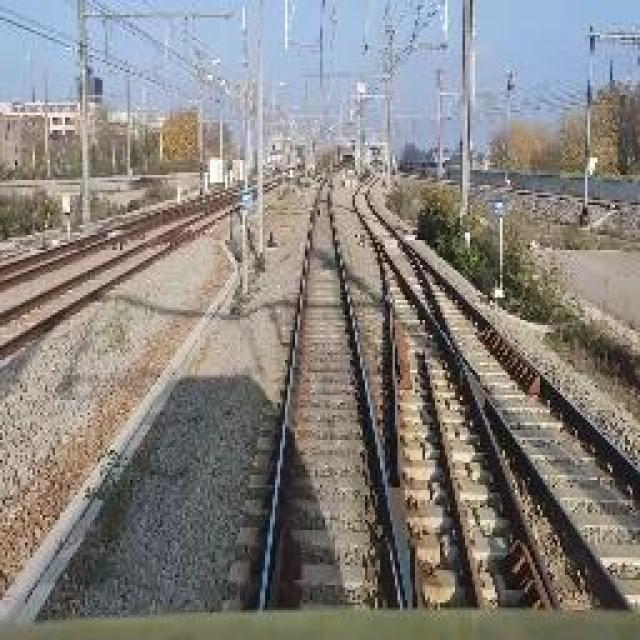rail: (217, 171, 574, 620)
